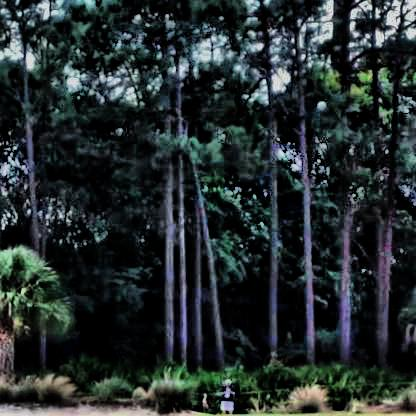golfball: (315, 98, 325, 107)
